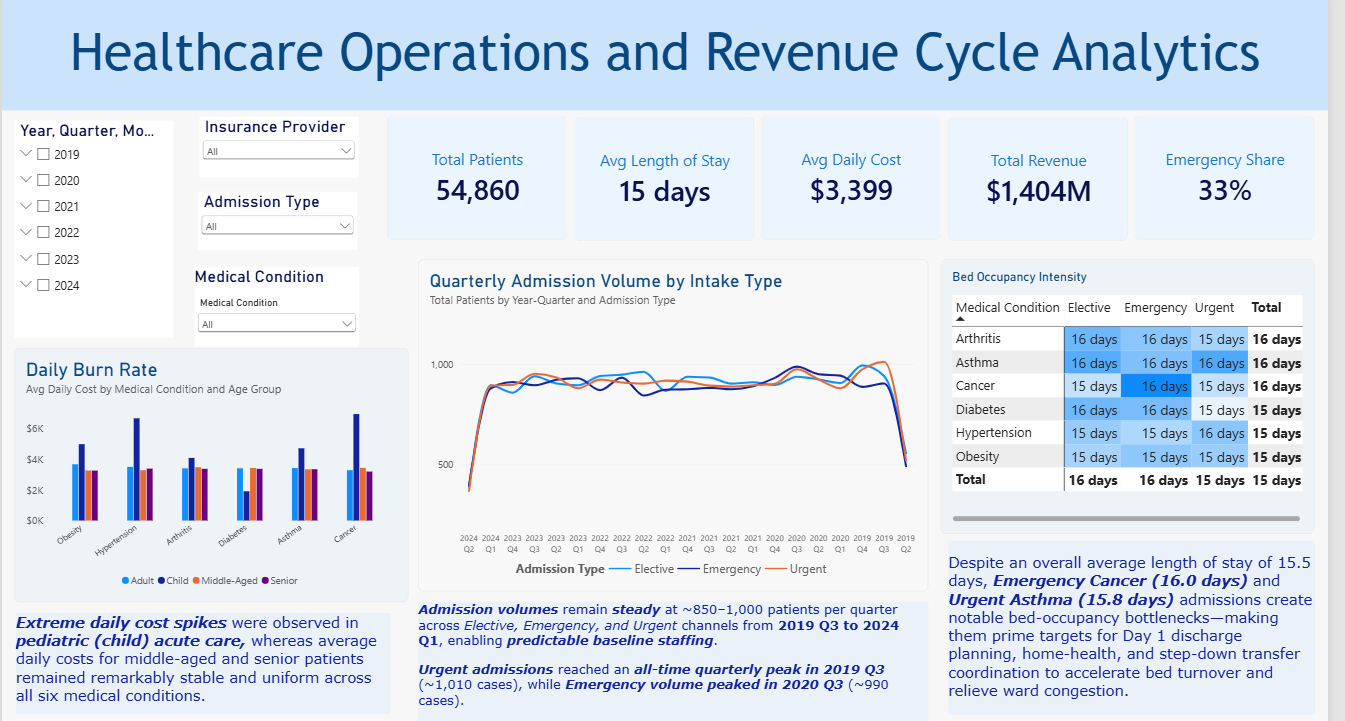

Layout of this report page (visuals, bound fields, positions):
{"tool":"powerbi","page":{"name":"Operations and Revenue","canvas":[1920,1080],"ordinal":0},"visuals":[{"type":"shape","box":[0,0,1920,170],"z":0},{"type":"slicer","fields":{"Values":["Calendar.Date.Variation.Date Hierarchy.Year","Calendar.Date.Variation.Date Hierarchy.Quarter","Calendar.Date.Variation.Date Hierarchy.Month","Calendar.Date.Variation.Date Hierarchy.Day"]},"box":[18.1,185.3,230,314],"z":1000,"group":"g1"},{"type":"lineChart","title":"Quarterly Admission Volume by Intake Type","fields":{"Category":["Calendar.Year-Quarter"],"Series":["Admissions.Admission Type"],"Y":["Admissions.Total Patients"]},"box":[602.8,385.7,738,480.9],"z":1000},{"type":"slicer","fields":{"Values":["Admissions.Insurance Provider"]},"box":[286.1,179.3,230,88],"z":2000,"group":"g1"},{"type":"pivotTable","title":"Bed Occupancy Intensity","fields":{"Columns":["Admissions.Admission Type"],"Rows":["Admissions.Medical Condition"],"Values":["Admissions.Avg Length of Stay"]},"box":[1359.2,385.7,541,397.4],"z":2000},{"type":"slicer","fields":{"Values":["Admissions.Admission Type"]},"box":[284.1,287.3,230,84],"z":3000,"group":"g1"},{"type":"clusteredColumnChart","title":"Daily Burn Rate","fields":{"Category":["Admissions.Medical Condition"],"Series":["Admissions.Age Group"],"Y":["Admissions.Avg Daily Cost"]},"box":[18,514,570,368],"z":3000},{"type":"slicer","title":"Medical Condition","fields":{"Values":["Admissions.Medical Condition"]},"box":[278.4,395.5,238.8,115.2],"z":4000,"group":"g1"},{"type":"textbox","box":[20,898,542,146],"z":4000},{"type":"group","id":"g1","title":"Group 1","box":[18.1,177.3,1882,333.4],"z":5000},{"type":"cardVisual","fields":{"Data":["Admissions.Total Patients"]},"box":[558.1,177.3,260,180],"z":5000,"group":"g1"},{"type":"cardVisual","fields":{"Data":["Admissions.Total Revenue"]},"box":[1369.6,179.3,260,180],"z":6000,"group":"g1"},{"type":"textbox","box":[1370,792,531,252.1],"z":6000},{"type":"textbox","box":[602.8,881.6,738,177],"z":6001},{"type":"cardVisual","fields":{"Data":["Admissions.Avg Length of Stay"]},"box":[828.6,179.3,260,180],"z":7000,"group":"g1"},{"type":"cardVisual","fields":{"Data":["Admissions.Avg Daily Cost"]},"box":[1099.1,177.3,260,180],"z":8000,"group":"g1"},{"type":"cardVisual","fields":{"Data":["Admissions.Emergency Share"]},"box":[1640.1,177.3,260,180],"z":9000,"group":"g1"}]}

Visuals, with their boxes on the page's 1920x1080 design canvas (x1, y1, x2, y2). These are canvas units, not pixel positions in the 1345x721 screenshot, which may show the page scaled, cropped or inside an application window:
shape: bbox=(0, 0, 1920, 170)
slicer - Calendar.Date.Variation.Date Hierarchy.Year x Calendar.Date.Variation.Date Hierarchy.Quarter: bbox=(18, 185, 248, 499)
"Quarterly Admission Volume by Intake Type" lineChart: bbox=(603, 386, 1341, 867)
slicer - Admissions.Insurance Provider: bbox=(286, 179, 516, 267)
"Bed Occupancy Intensity" pivotTable: bbox=(1359, 386, 1900, 783)
slicer - Admissions.Admission Type: bbox=(284, 287, 514, 371)
"Daily Burn Rate" clusteredColumnChart: bbox=(18, 514, 588, 882)
"Medical Condition" slicer: bbox=(278, 396, 517, 511)
textbox: bbox=(20, 898, 562, 1044)
"Group 1" group: bbox=(18, 177, 1900, 511)
cardVisual - Admissions.Total Patients: bbox=(558, 177, 818, 357)
cardVisual - Admissions.Total Revenue: bbox=(1370, 179, 1630, 359)
textbox: bbox=(1370, 792, 1901, 1044)
textbox: bbox=(603, 882, 1341, 1059)
cardVisual - Admissions.Avg Length of Stay: bbox=(829, 179, 1089, 359)
cardVisual - Admissions.Avg Daily Cost: bbox=(1099, 177, 1359, 357)
cardVisual - Admissions.Emergency Share: bbox=(1640, 177, 1900, 357)
